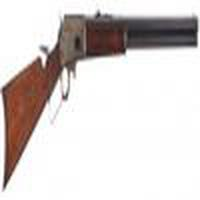gun: (3, 10, 200, 178)
